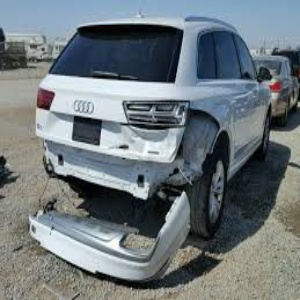bumper: (34, 157, 175, 204)
